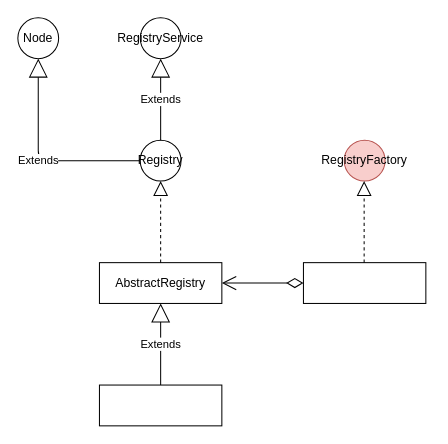
Some shapes in this 448 by 444 pixel diagram are drawn without their labels. The shapes that lost their labels are listed below. From the top down, each one's centre as x and y in pixels, then its label:
At (x=364, y=282): "AbstractRegistryFactory".
At (x=160, y=405): "FailbackRegistry".
